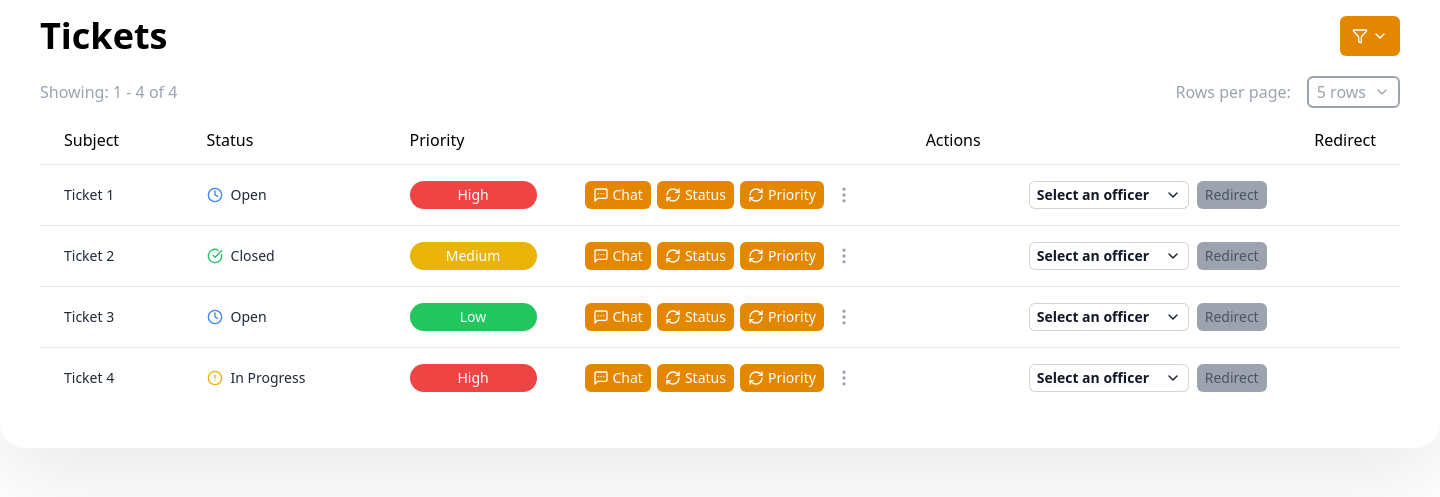
Test: TicketsCard - rendering › TicketsCard - Filtering › clear button becomes visible after applying filter
// Open Filter dropdown
Click the button with test id "filter-tickets-dropdown": (1370, 36) [1340,16,1400,56]
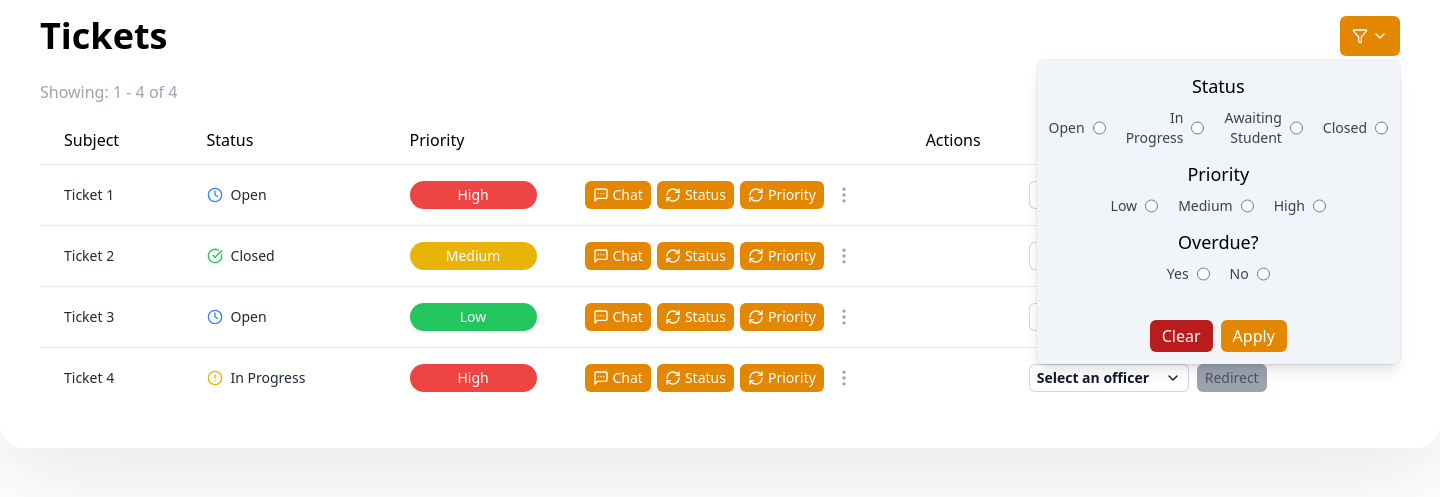
Click the 7th radio button showing "High": (1319, 206) [1313,196,1326,216]
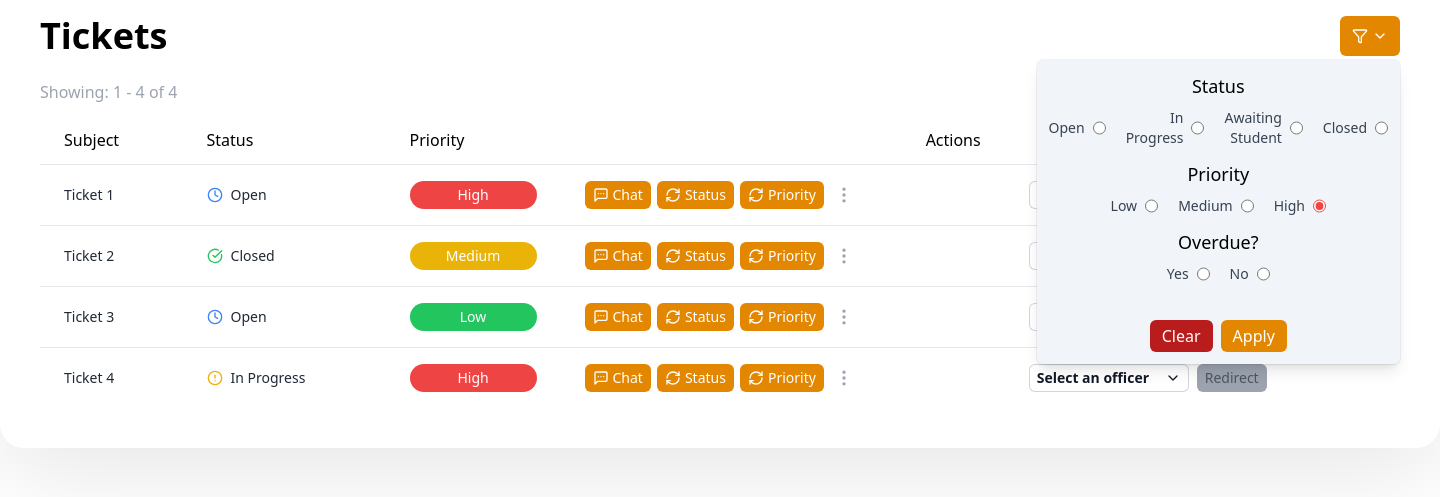
Click the button "Apply": (1254, 336) [1221,320,1287,352]
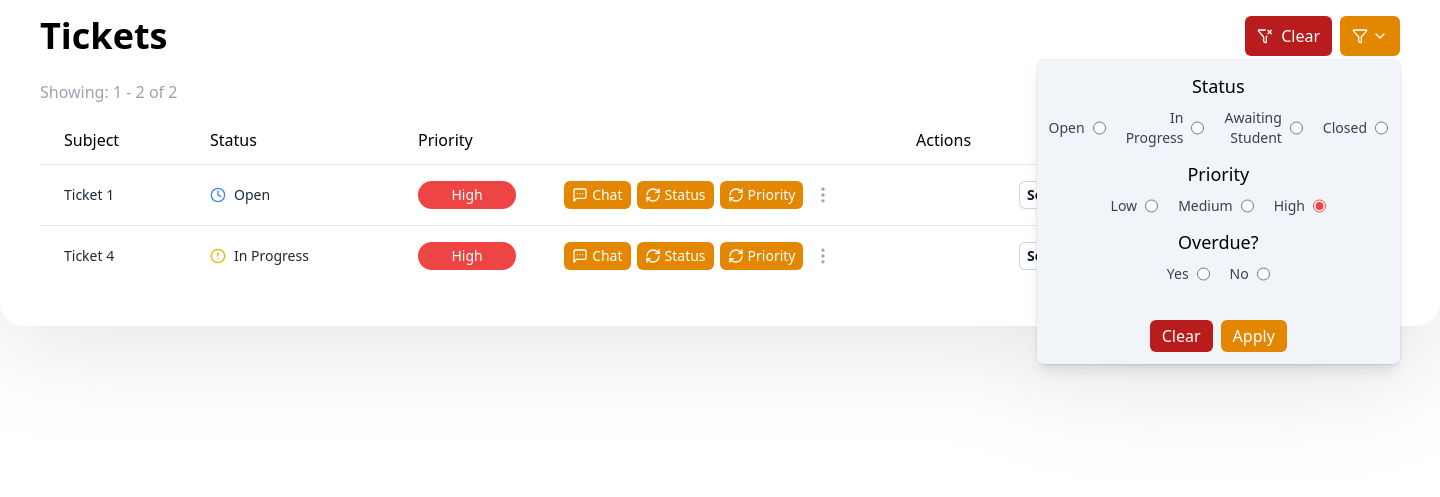
// Close dropdown
Click the button with test id "filter-tickets-dropdown": (1370, 36) [1340,16,1400,56]
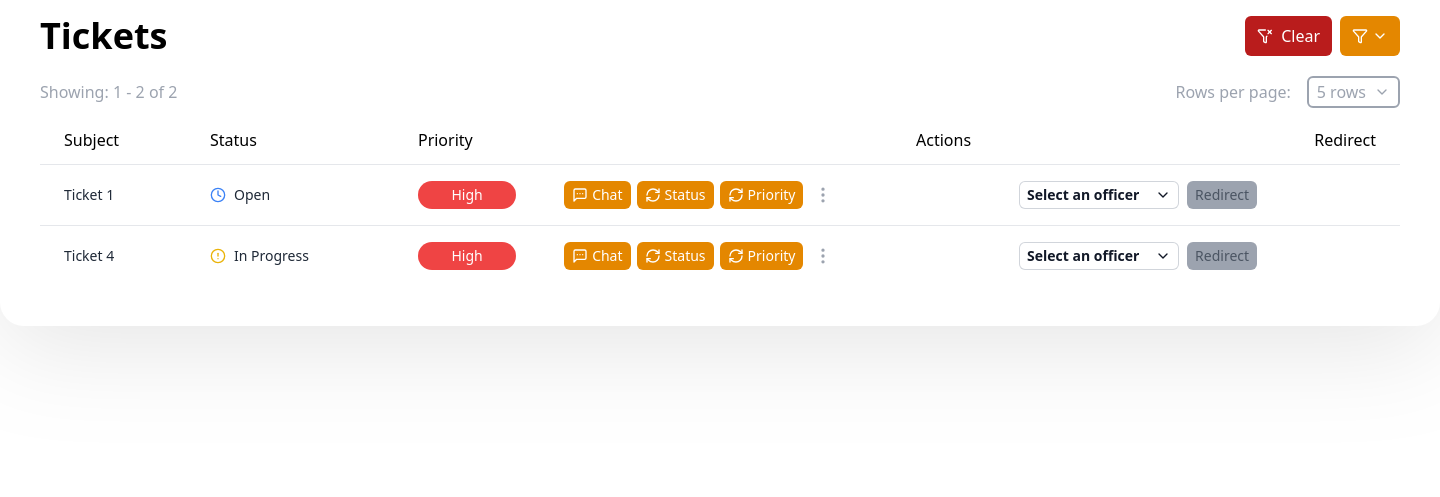
Now the button with test id "clear-button-outside" is shown
Click the button with test id "clear-button-outside": (1289, 36) [1245,16,1332,56]
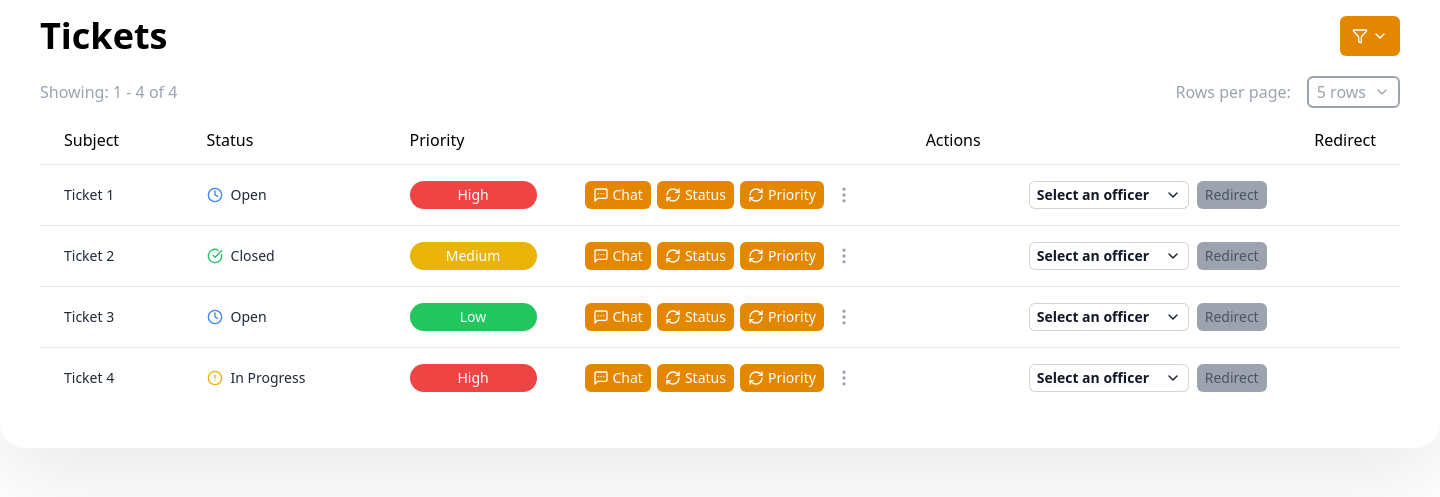
Expected: the text "Ticket 1" is shown, [40,164,182,226]
Now the text "Ticket 2" is shown, box [40,226,182,286]
Now the text "Ticket 3" is shown, box [40,286,182,348]
